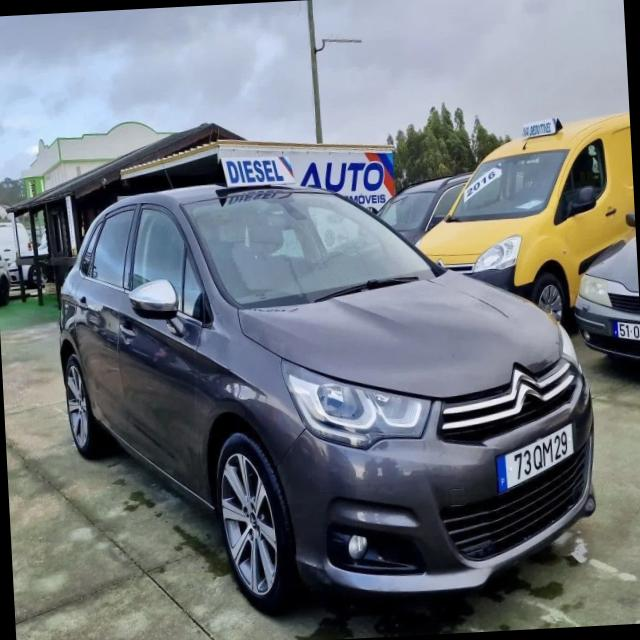portuguese-license-plates: (491, 414, 580, 505)
